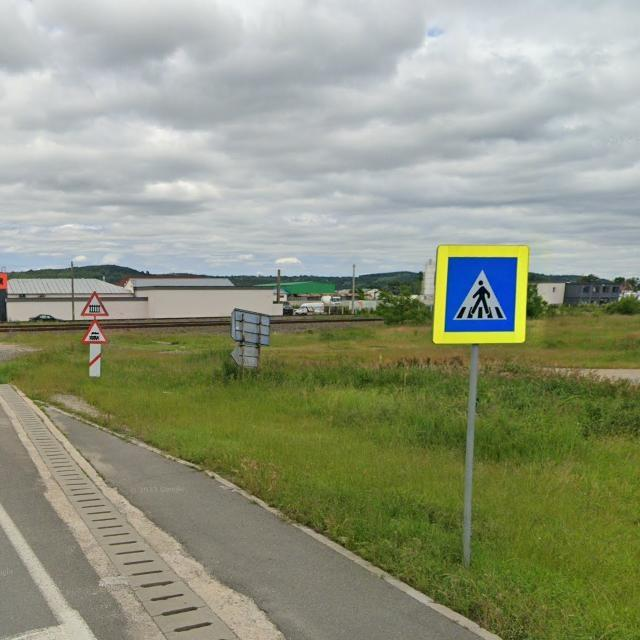info_crosswalk: (433, 246, 528, 343)
